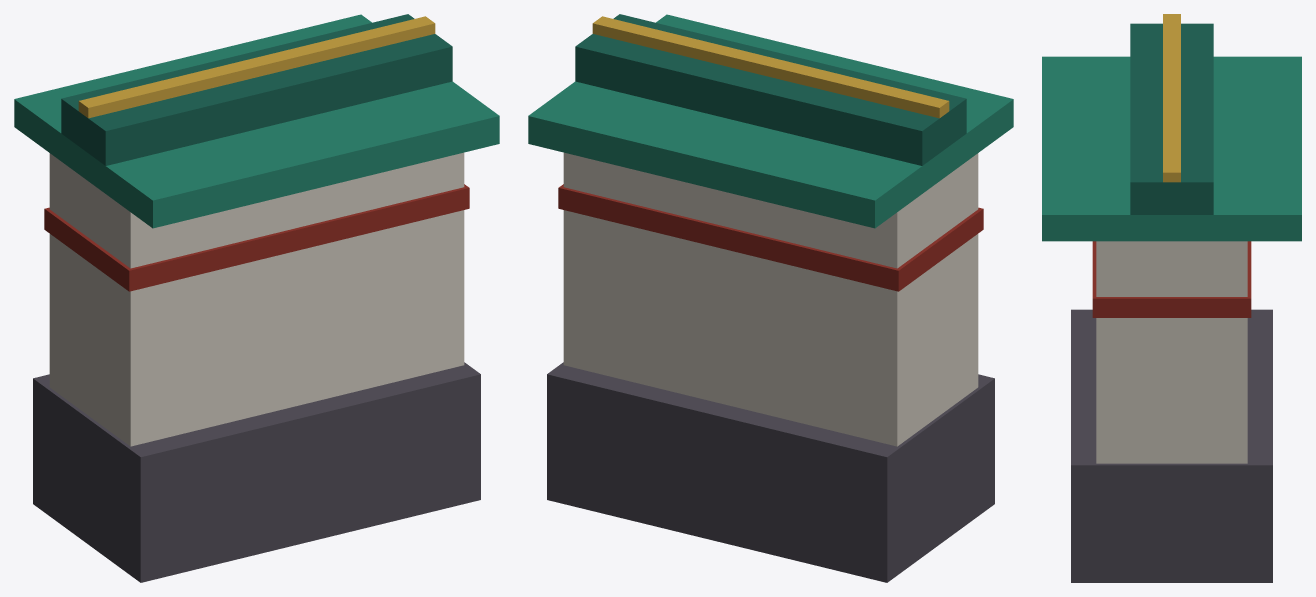
The model's file is wall_t2_seg.glb.
3 renders of one model, left to right at view 1: azimuth 30°, elevation 25°; view 2: azimuth 150°, elevation 25°; view 3: azimuth 270°, elevation 25°, orthographic. The views are drawn at different scales.
Parts seen in each view (by area): view 1: body; view 2: body; view 3: body.
Boxes of the visible parts, <box> form: body: <box>14,14,499,582</box>; body: <box>528,14,1013,582</box>; body: <box>1042,14,1301,582</box>.
Bounding box in the file's own units: 1.04 × 1.26 × 0.72.
